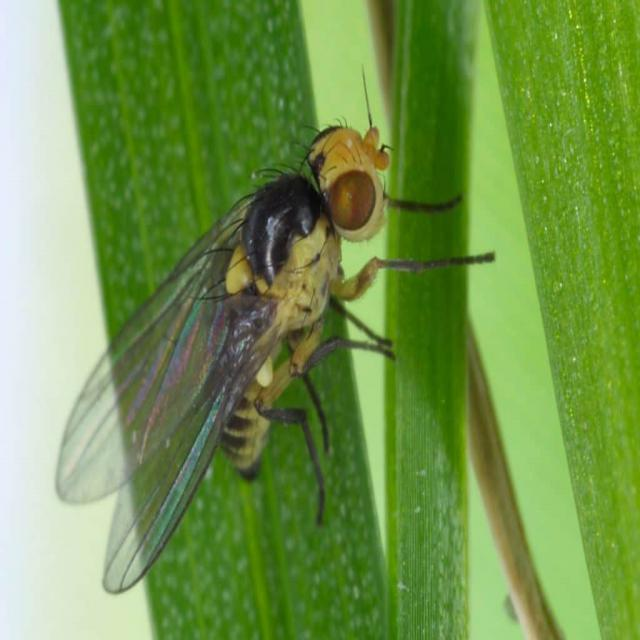Serpentine leafminer: (52, 56, 511, 600)
